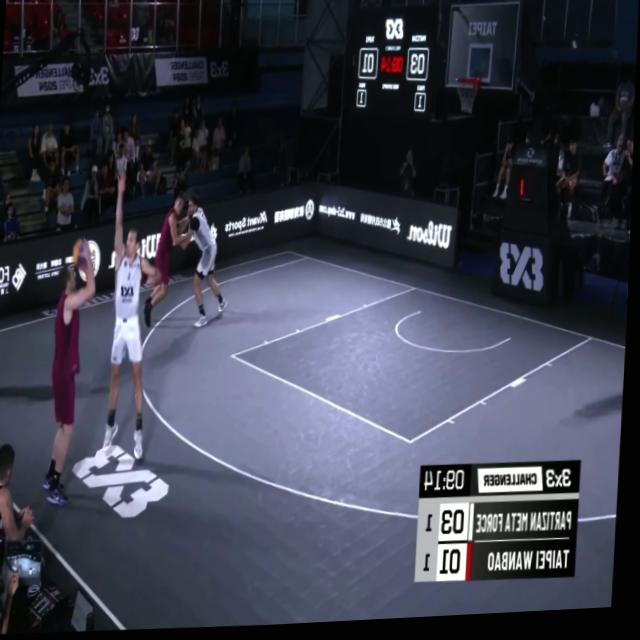ball: (72, 238, 97, 270)
hoop: (455, 78, 482, 118)
player: (104, 174, 164, 469), (45, 235, 106, 520), (171, 190, 226, 333), (148, 193, 196, 332)
